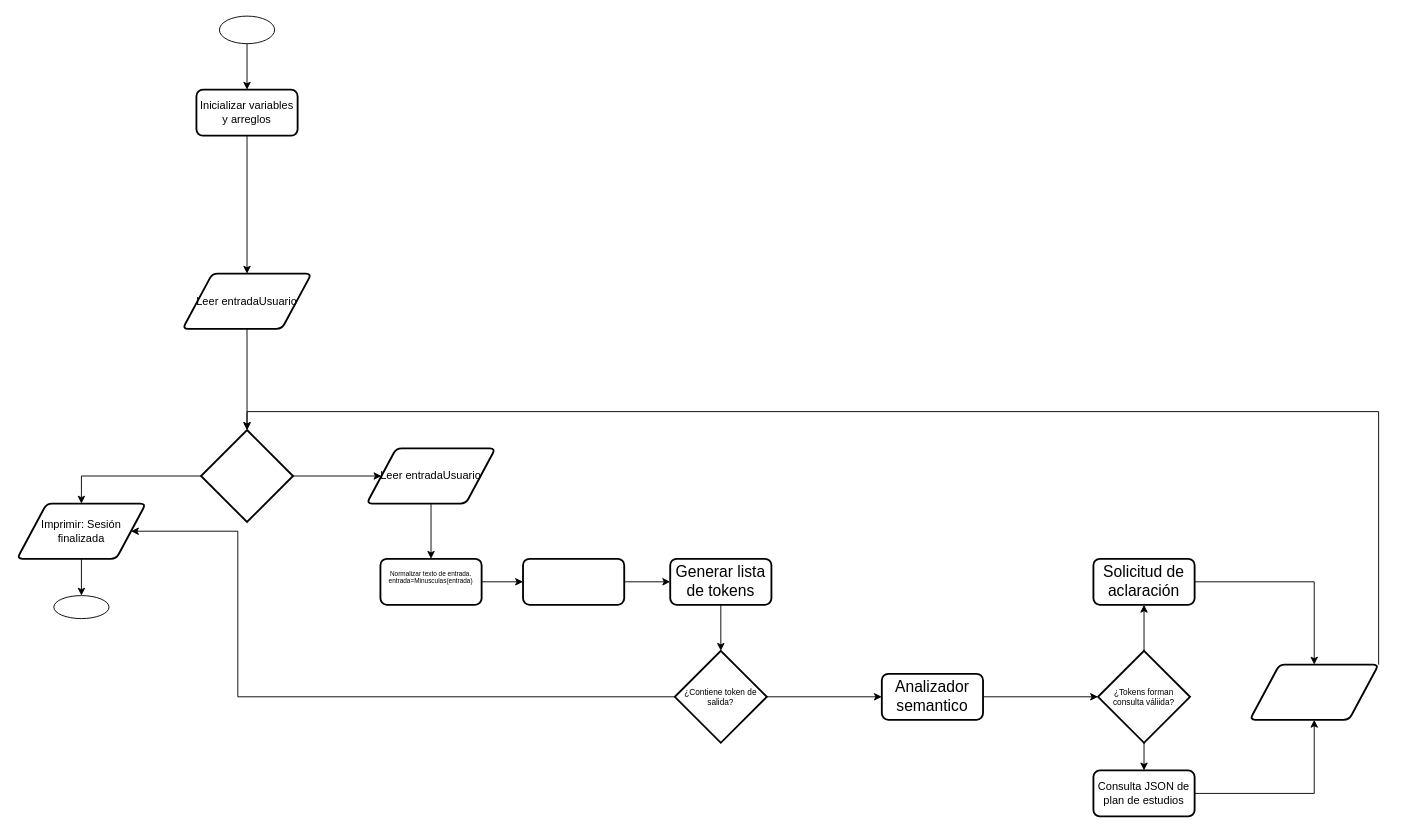
Image size: 1402x834. Some labels were removed from this diagram. Here are the shapes that lost their labels. From the top down, the centre of each, then its label:
At point 246,29: "Inicio".
At point 246,475: "continuarChat==Verdadero".
At point 573,581: "Aplicar RegEx (ignorar espacio y puntación)".
At point 81,607: "Fin".
At point 1313,691: "Construir y mosrtrar respuesta al usuraio".
